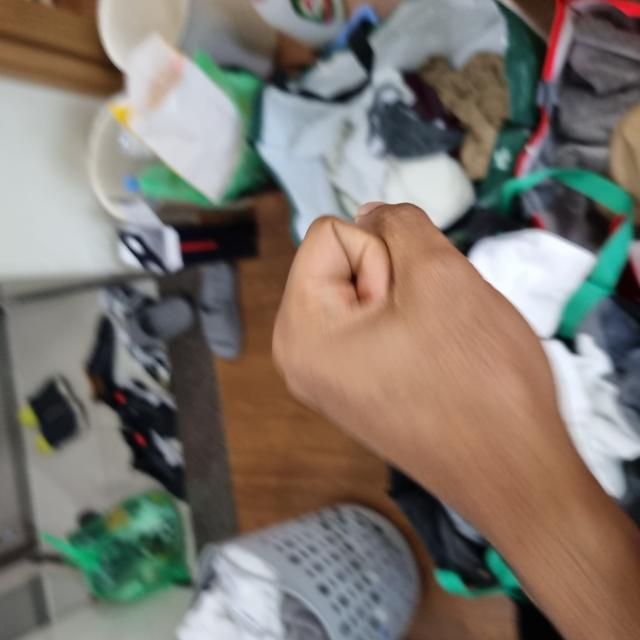Rock: (104, 273, 442, 584)
